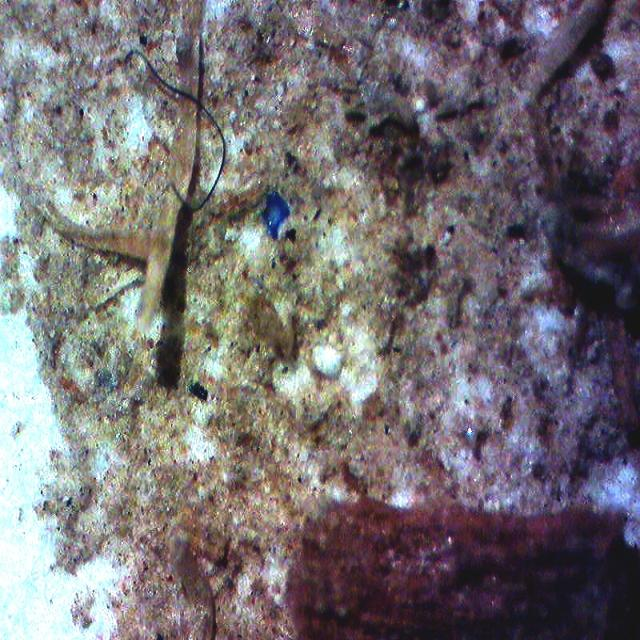microplastic: (121, 30, 246, 217)
